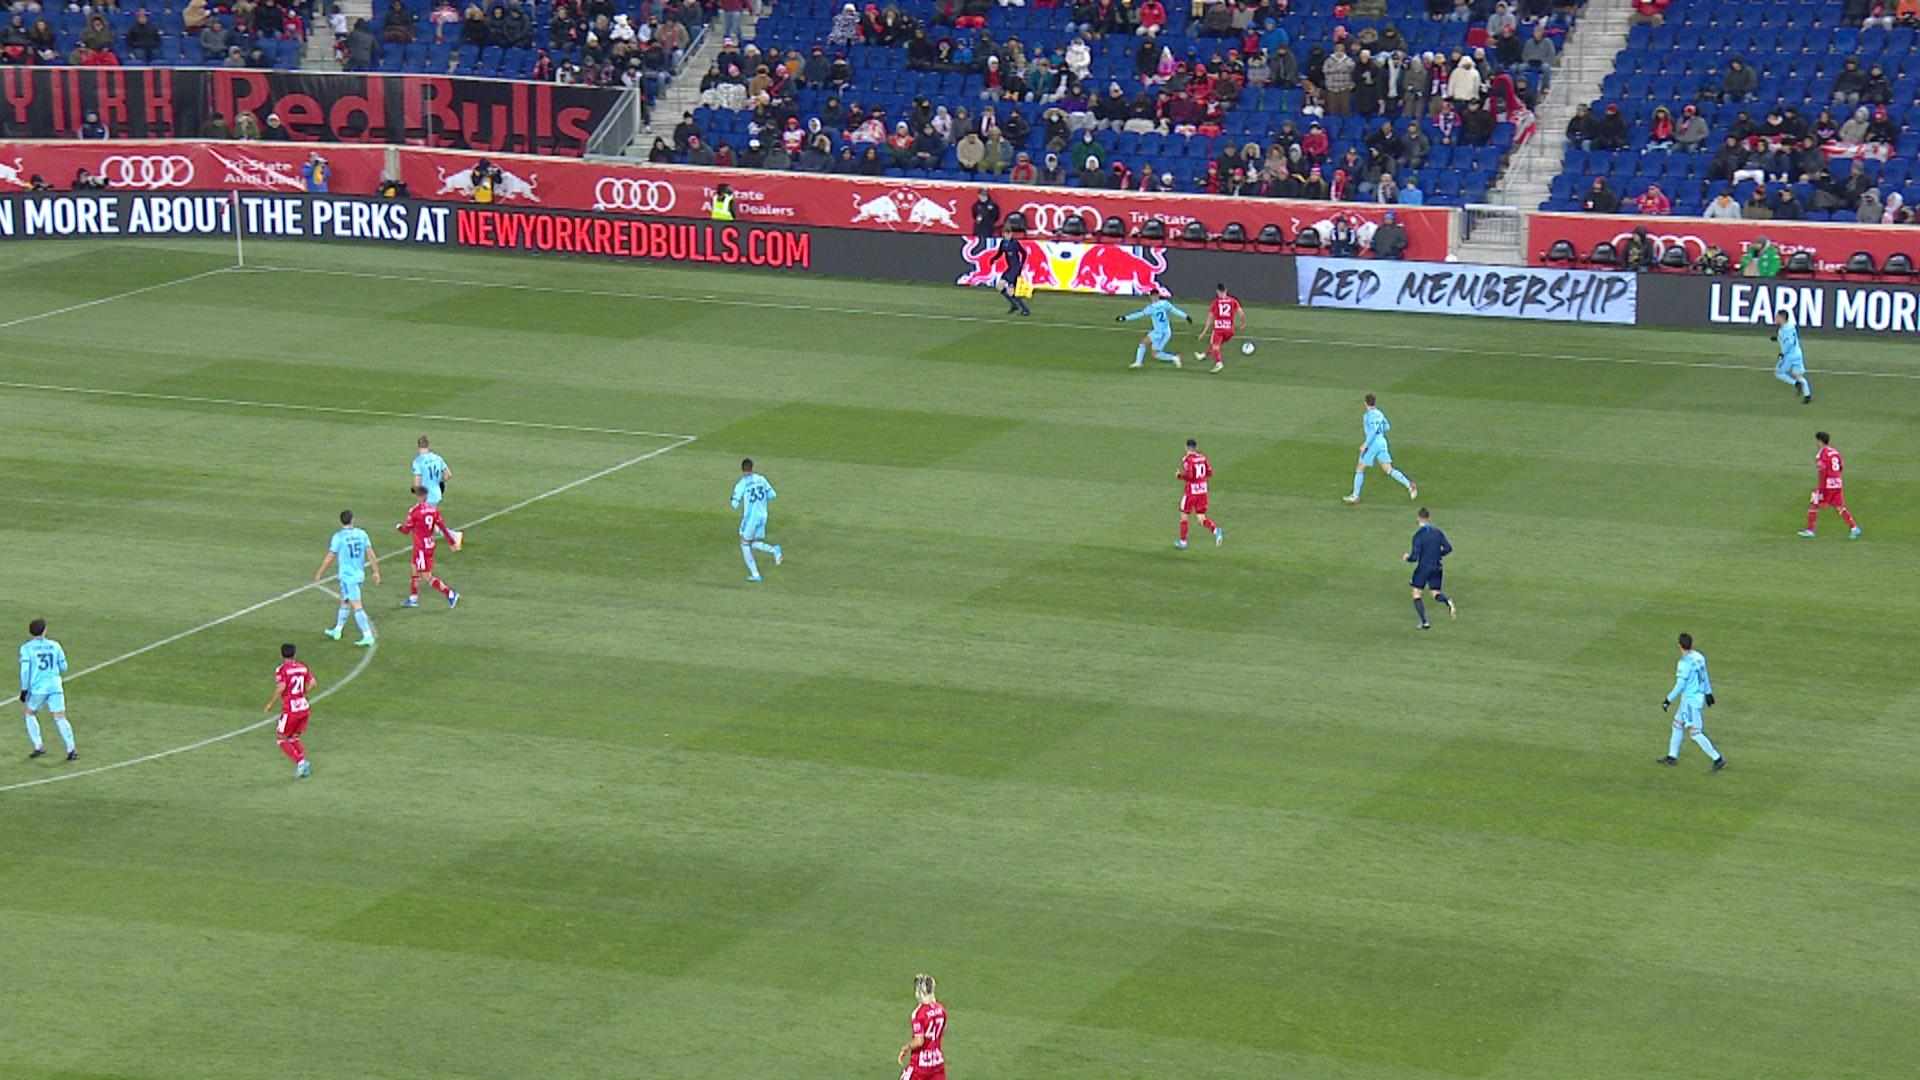football: (1241, 340, 1255, 356)
